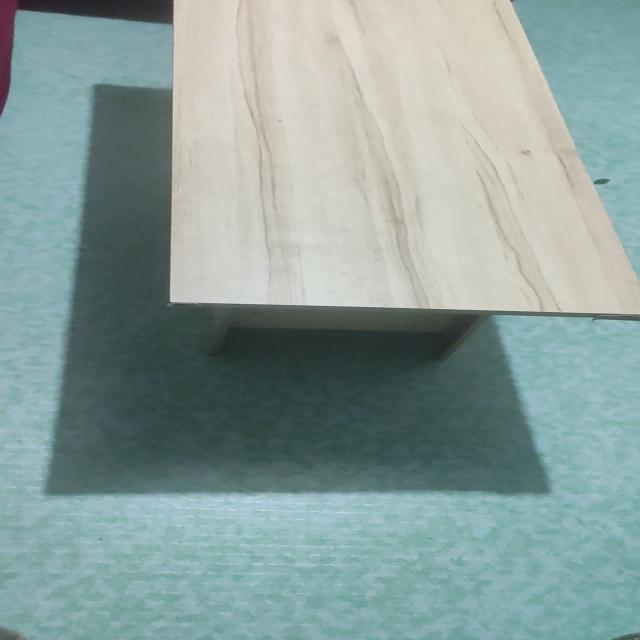table: (140, 0, 639, 368)
